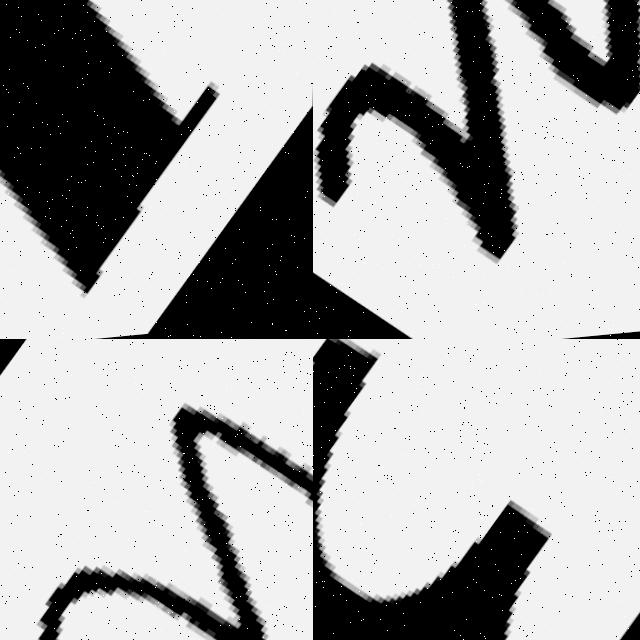3: (313, 339, 640, 640)
L: (0, 0, 311, 334)
M: (313, 0, 640, 336), (0, 339, 313, 640)
